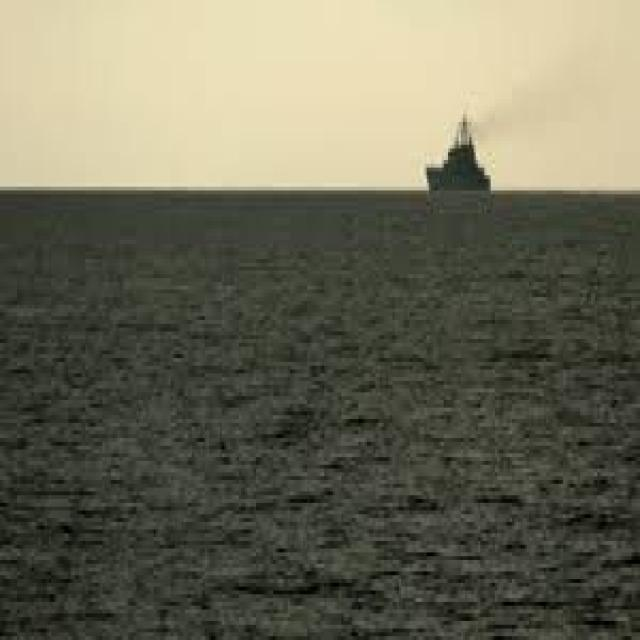cargoship: (416, 110, 499, 208)
